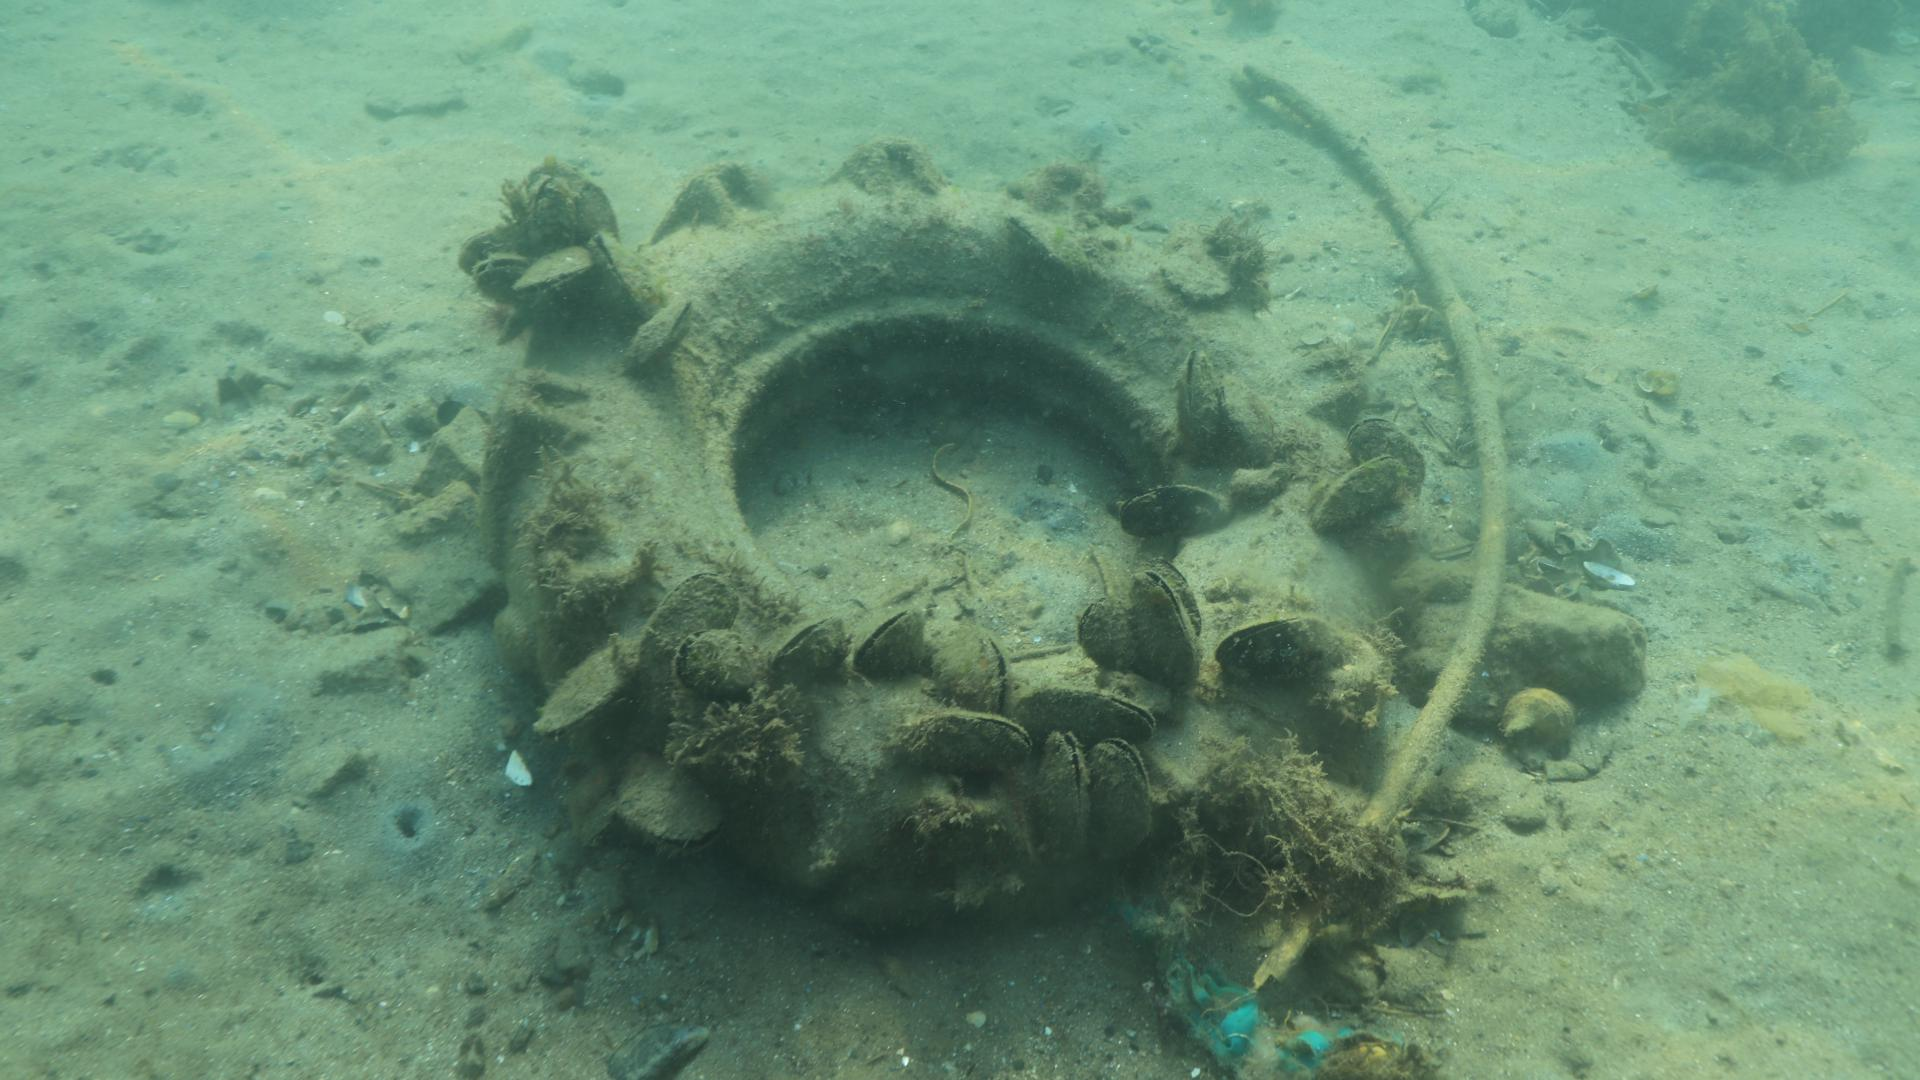tire: (480, 136, 1399, 945)
